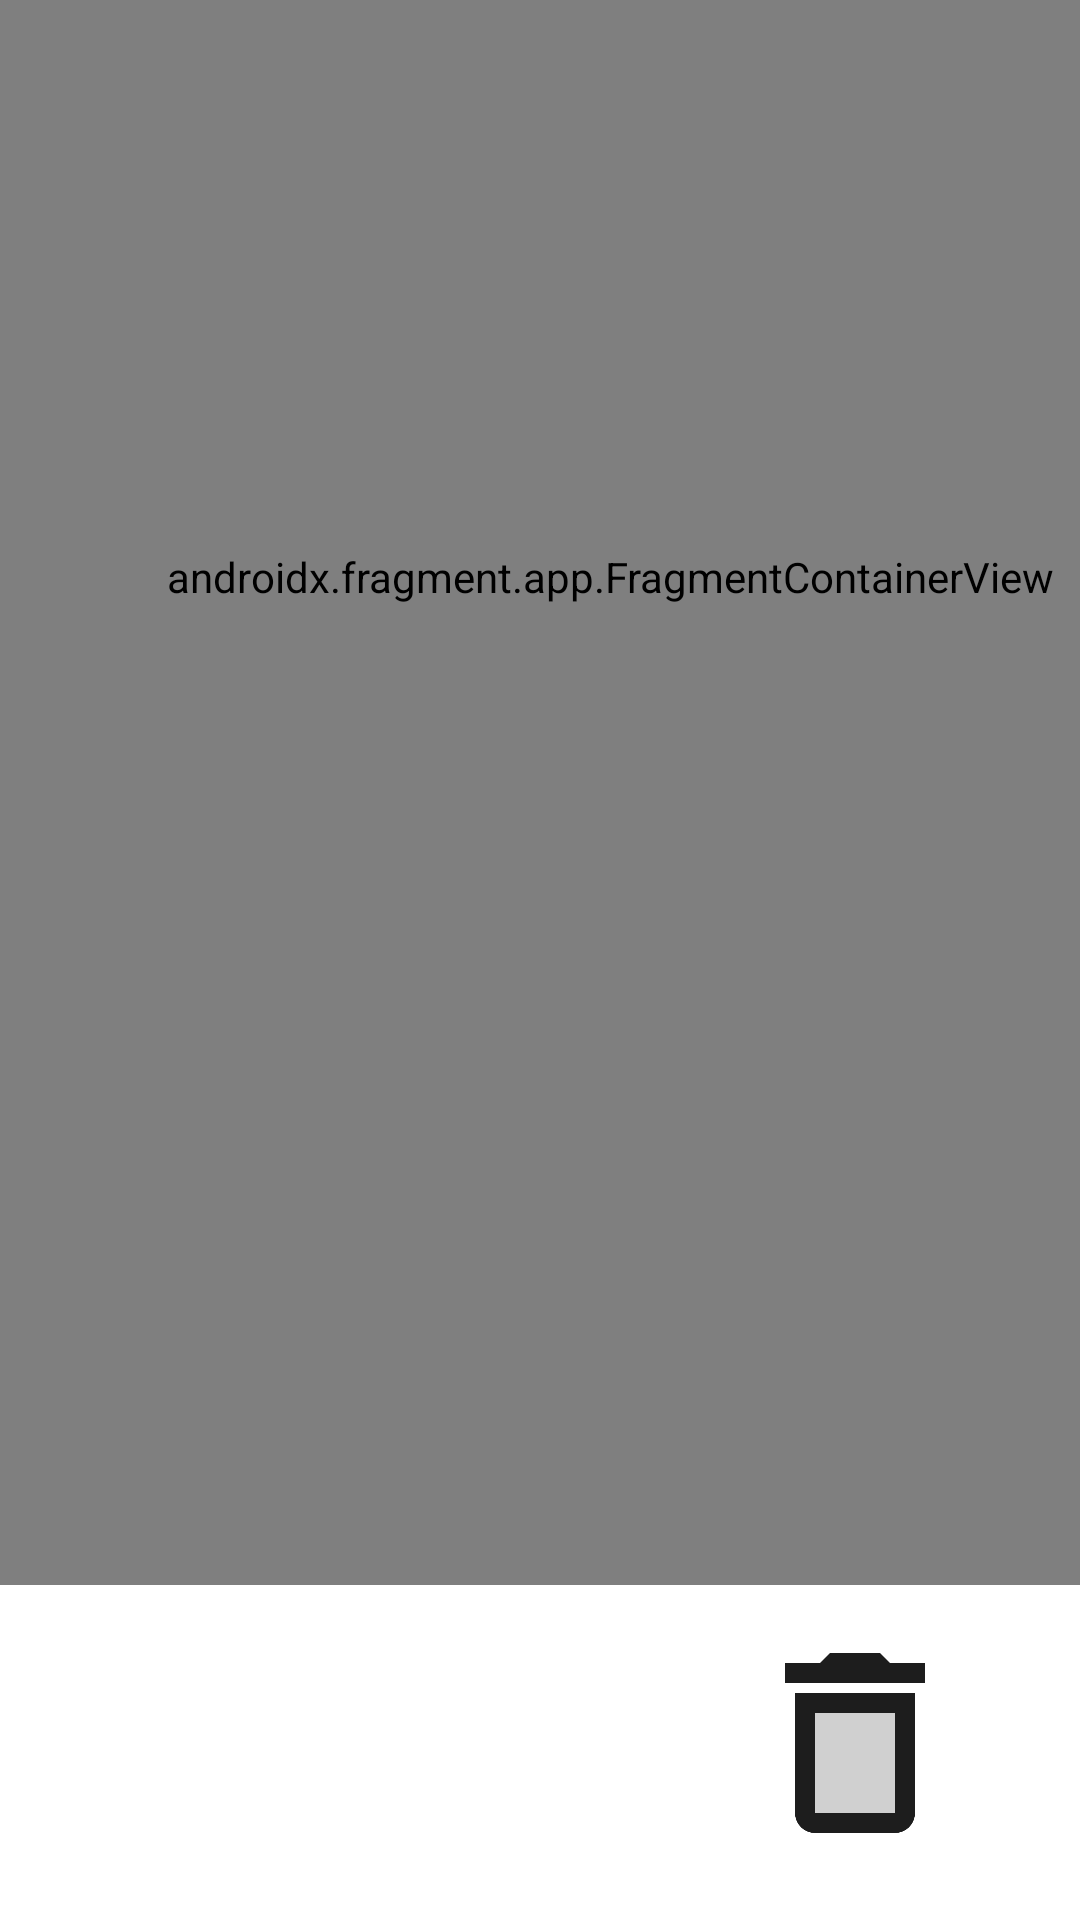

Locate icon controls on the screen. Image size 1080 × 1920, boxes as box=[x1, y1, x2, y2].
delete: box=[785, 1653, 925, 1833]
